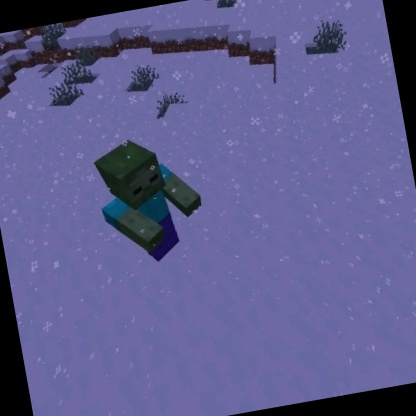zombie: (85, 124, 215, 275)
